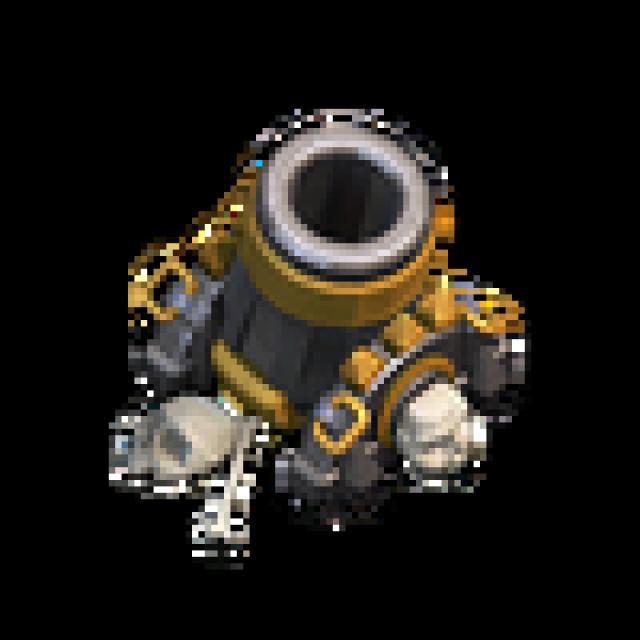mortar: (76, 104, 558, 558)
